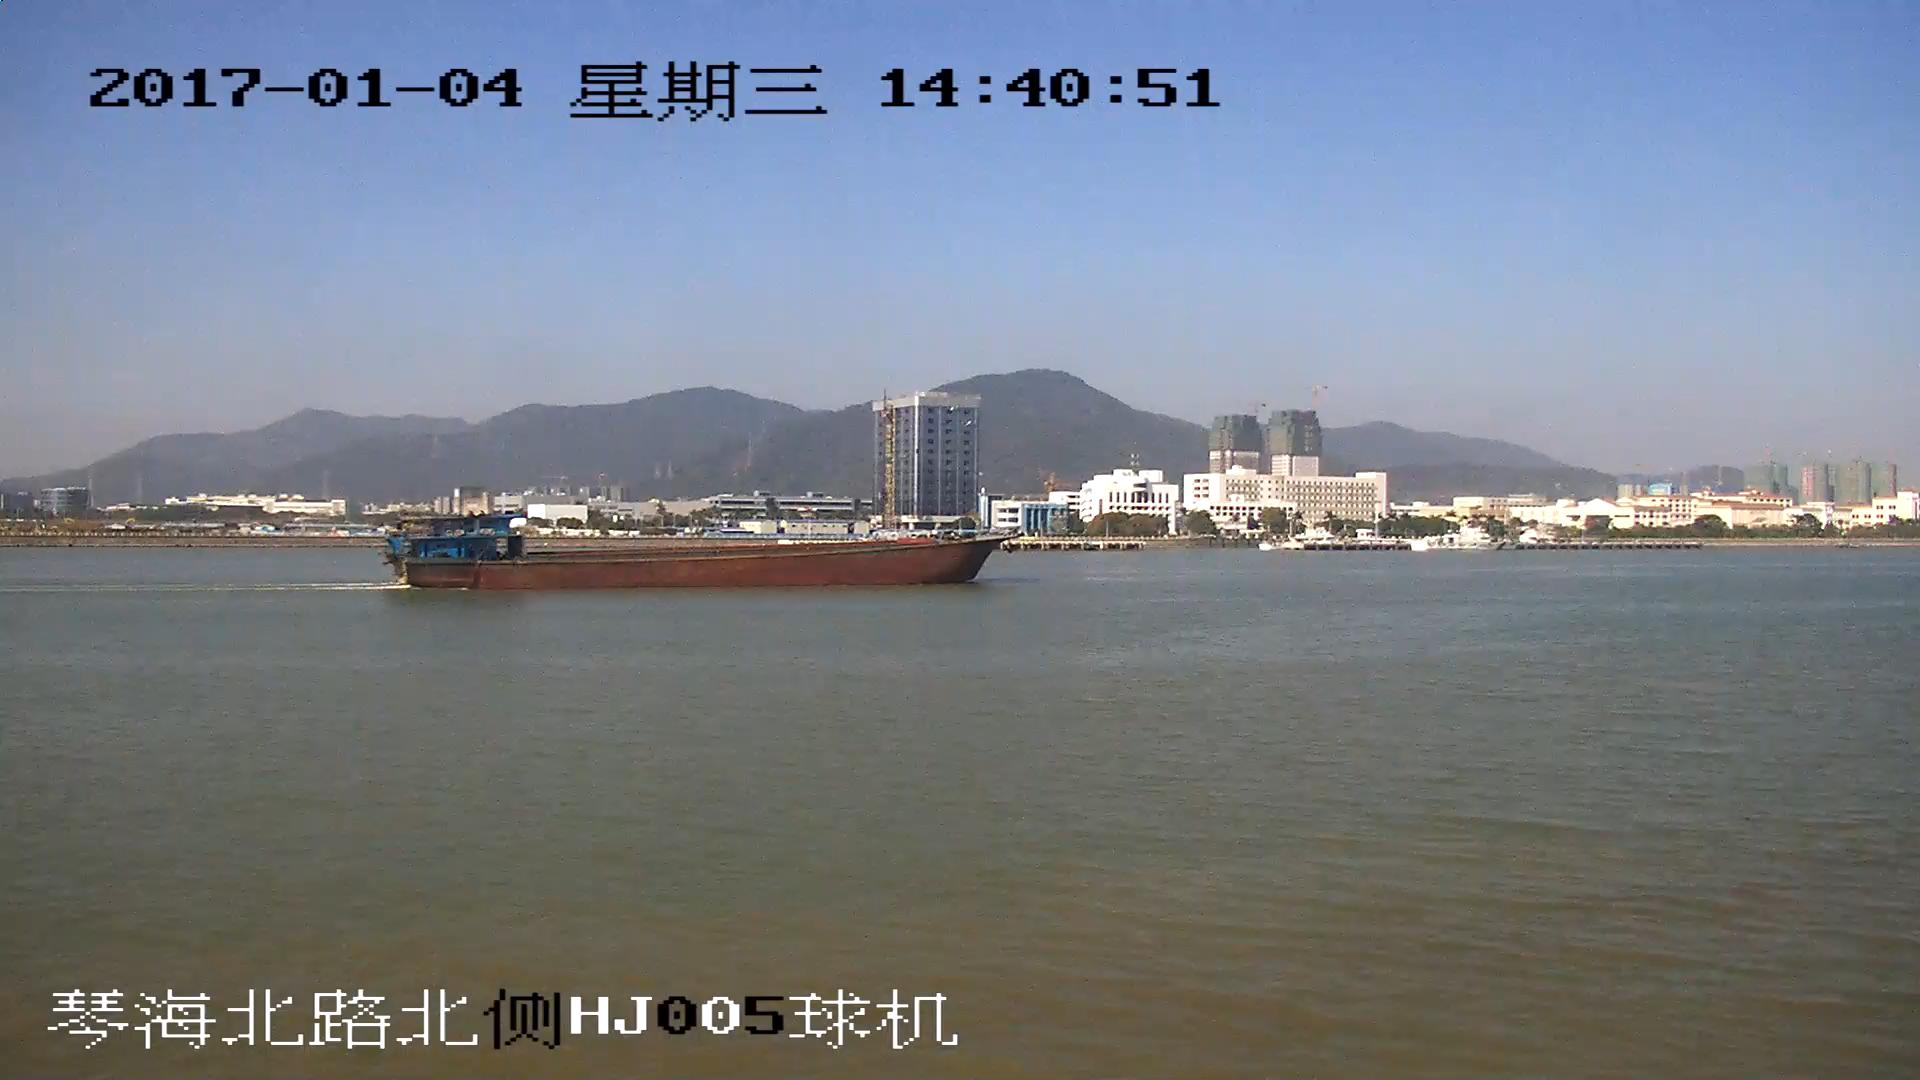bulk cargo carrier: (381, 509, 1011, 590)
